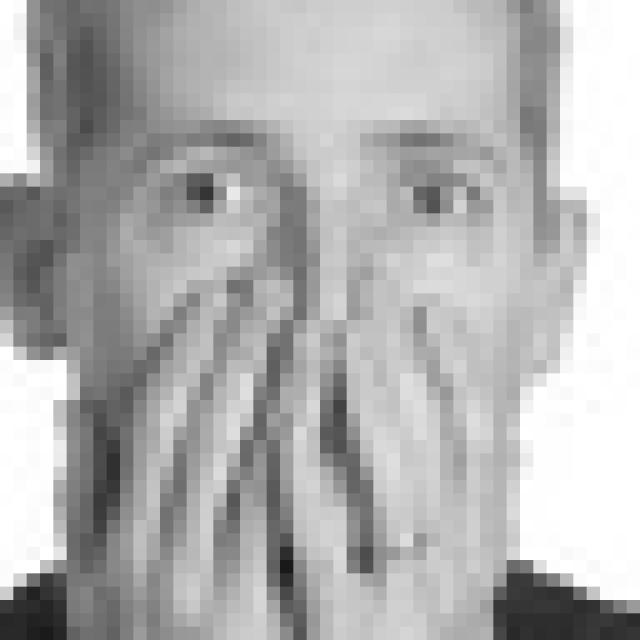fear: (134, 117, 503, 520)
